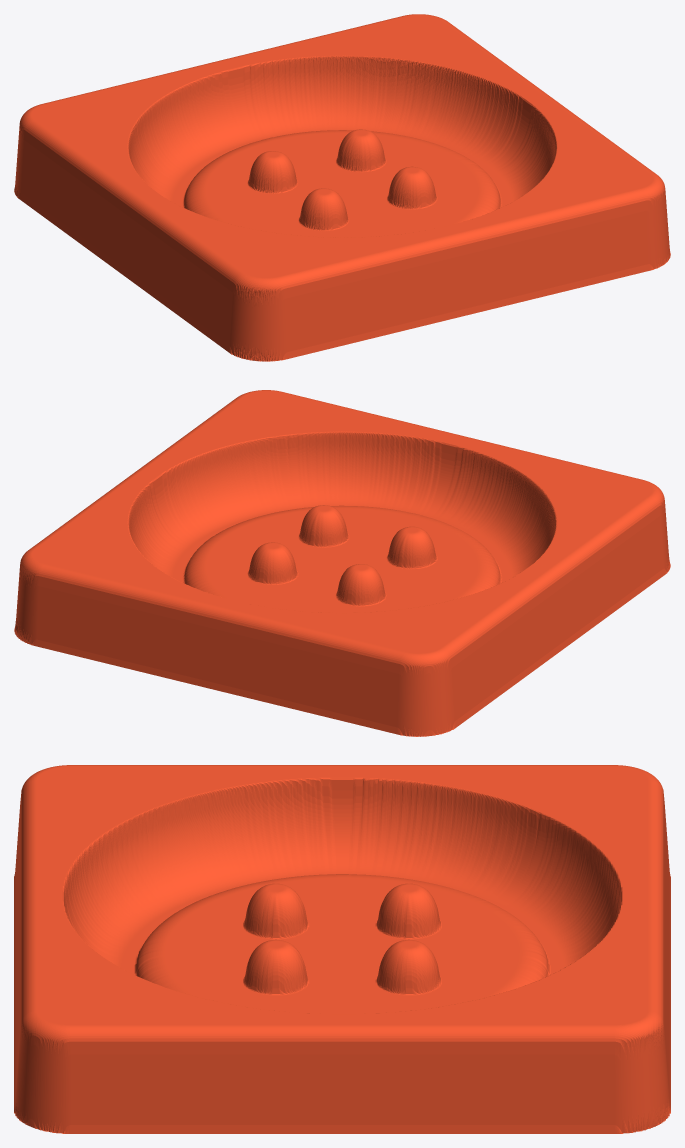
Rendered from mold.glb.
3 renders of one model, top to bottom at view 1: azimuth 30°, elevation 25°; view 2: azimuth 150°, elevation 25°; view 3: azimuth 270°, elevation 25°, orthographic. The views are drawn at different scales.
Parts seen in each view (by area): view 1: geometry_0; view 2: geometry_0; view 3: geometry_0.
Part boxes in pixels (left/top/right/bottom): geometry_0: left=14, top=14, right=670, bottom=361; geometry_0: left=14, top=390, right=670, bottom=736; geometry_0: left=14, top=765, right=670, bottom=1133.
Bounding box in the file's own units: 0.105 × 0.0175 × 0.105.
